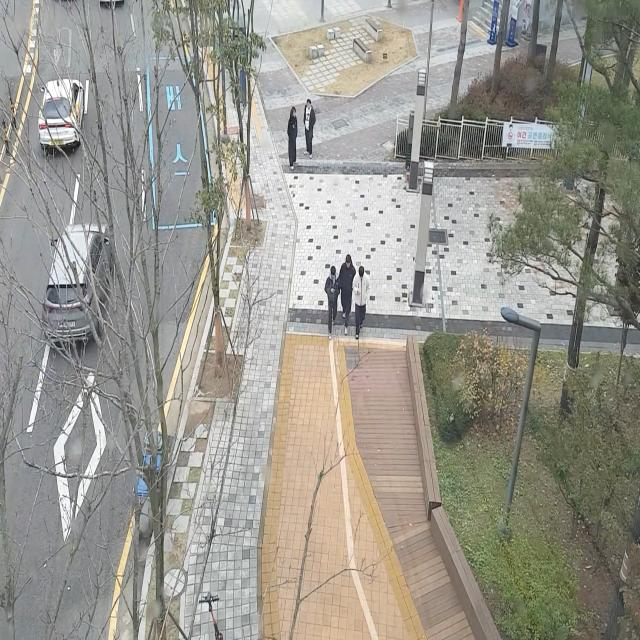Car: (38, 200, 118, 363), (28, 62, 97, 162)
